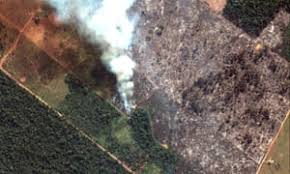smoke: (57, 1, 154, 120)
